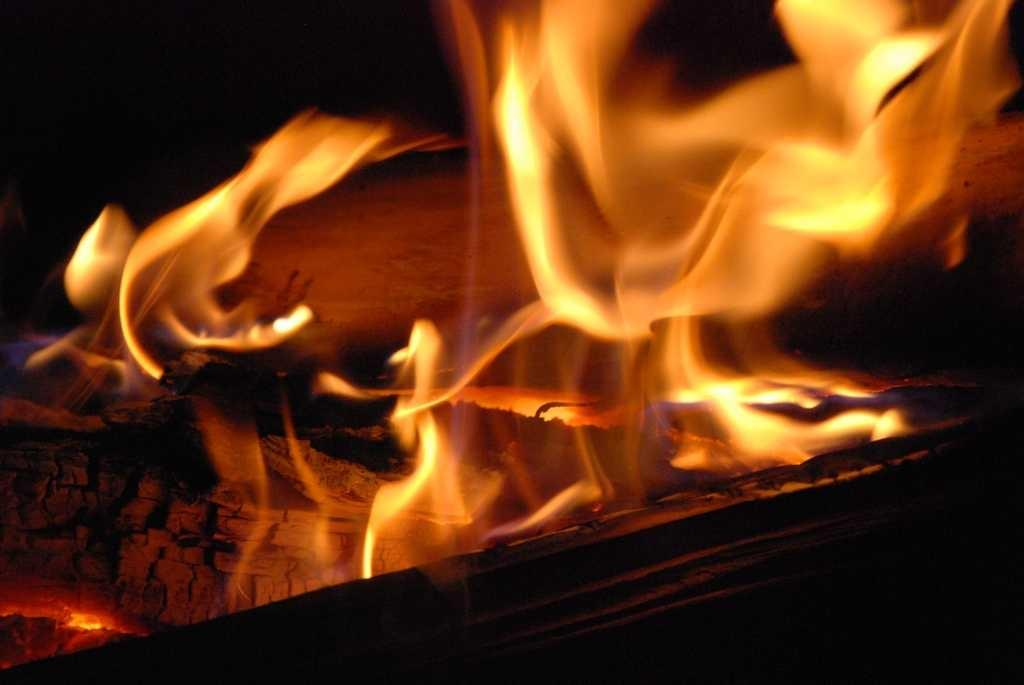fire: (478, 15, 982, 295), (78, 227, 257, 357), (390, 413, 500, 560)
